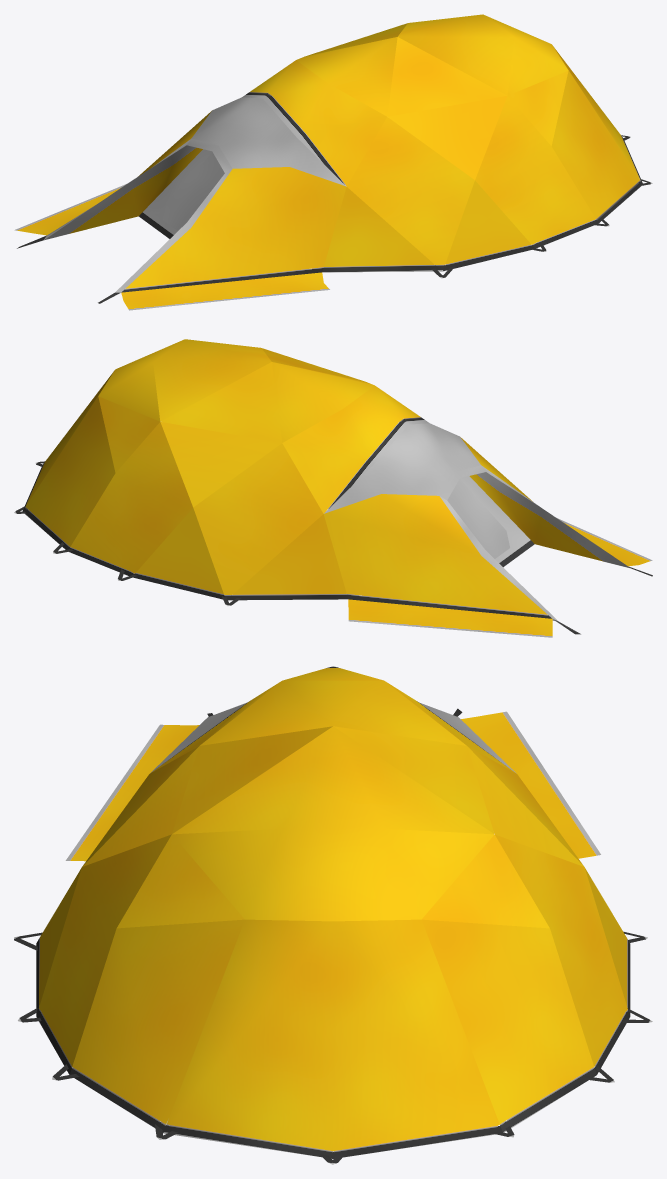
Rendered from Tent_A_GEO.fbx.
3 views of the same model, one above another, from view 1: azimuth 30°, elevation 25°; view 2: azimuth 150°, elevation 25°; view 3: azimuth 270°, elevation 25° (orthographic). The views are drawn at different scales.
Parts seen in each view (by area): view 1: TentMesh_01; view 2: TentMesh_01; view 3: TentMesh_01.
Part boxes in pixels (<box>): TentMesh_01: <box>14,14,652,310</box>; TentMesh_01: <box>14,339,652,637</box>; TentMesh_01: <box>14,666,652,1164</box>.
Size of the model in its own units: 668 by 173 by 395.
